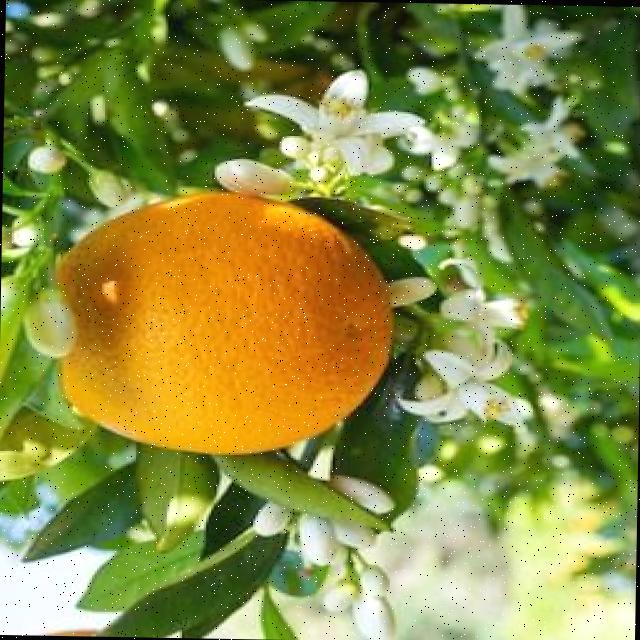orange: (39, 188, 396, 458)
